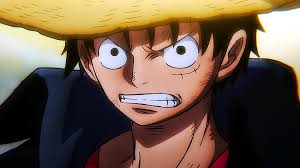luffy: (1, 1, 300, 130)
